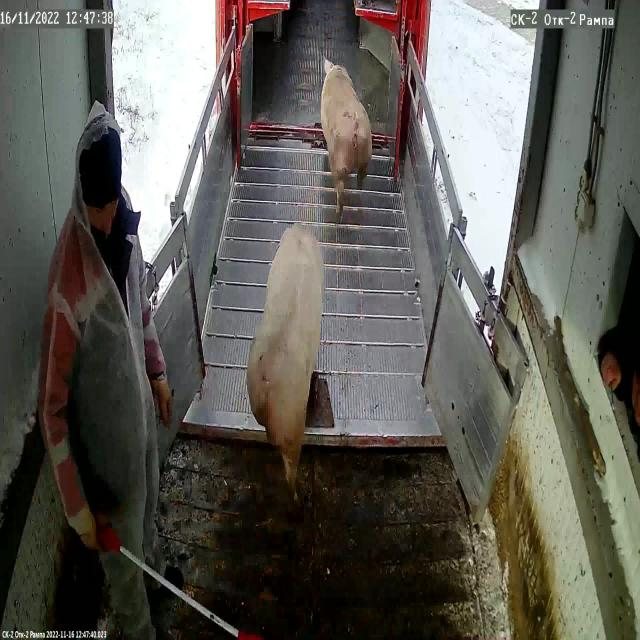pig: (246, 227, 324, 481), (320, 59, 373, 219)
